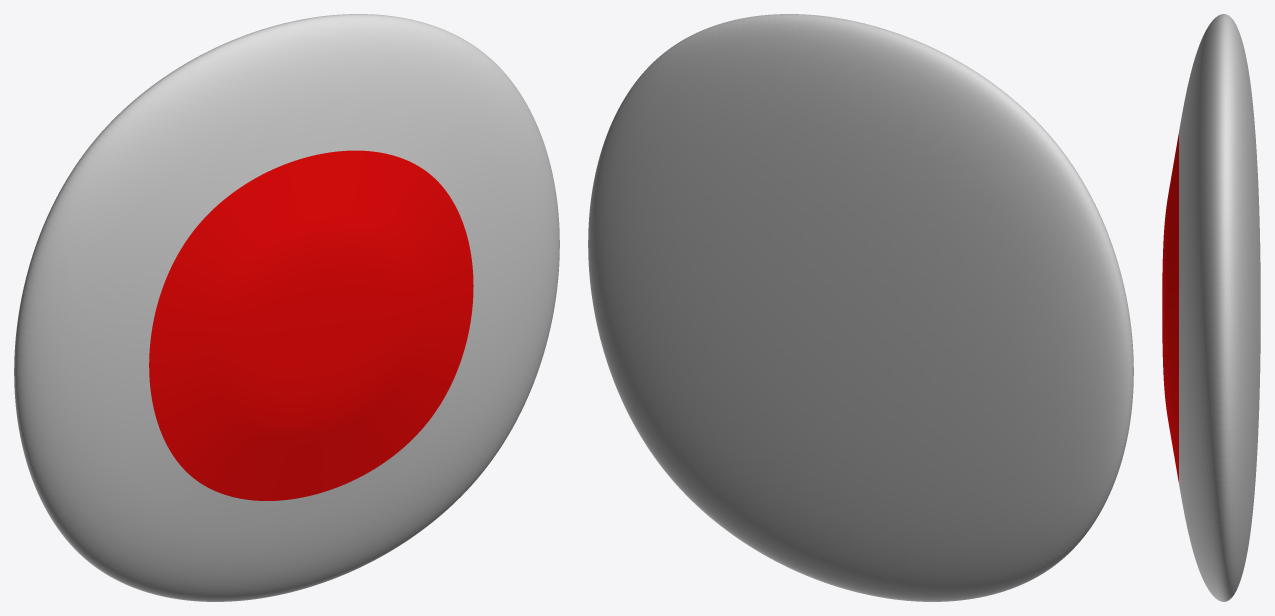
File: ALVO Vermelho.fbx
The picture shows the model from 3 angles, left to right: view 1: azimuth 30°, elevation 25°; view 2: azimuth 150°, elevation 25°; view 3: azimuth 270°, elevation 25°; orthographic projection. The views are drawn at different scales.
Visible parts, largest first — view 1: Cube; view 2: Cube; view 3: Cube.
Part boxes in pixels (bbox=[...]): Cube: bbox=[14, 14, 559, 601]; Cube: bbox=[588, 14, 1133, 601]; Cube: bbox=[1162, 14, 1260, 601].
Bounding box in the file's own units: 177 × 177 × 30.12.
